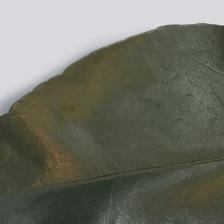healthy: (7, 38, 219, 224)
